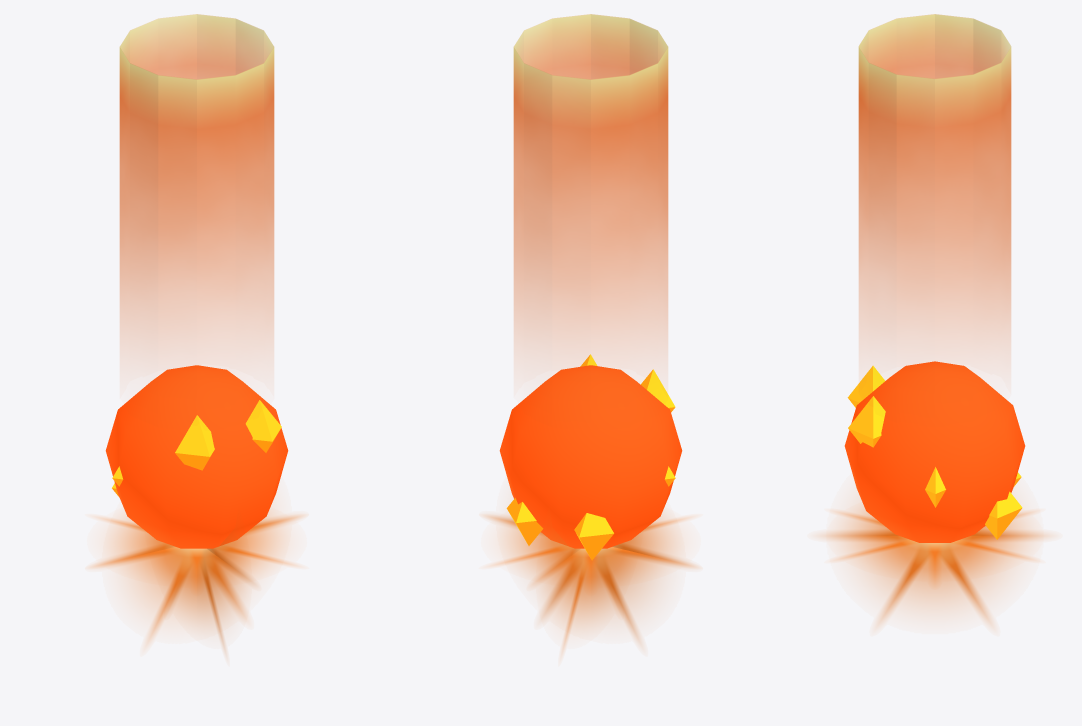
File: fx_meteor.glb
3 renders of one model, left to right at view 1: azimuth 30°, elevation 25°; view 2: azimuth 150°, elevation 25°; view 3: azimuth 270°, elevation 25°, orthographic.
Parts seen in each view (by area): view 1: fx_met_trail, fx_met_rock, fx_met_glow, fx_met_lava; view 2: fx_met_trail, fx_met_rock, fx_met_glow, fx_met_lava; view 3: fx_met_trail, fx_met_rock, fx_met_glow, fx_met_lava.
Boxes of the visible parts, x1,y1,x2,y2 form: fx_met_trail: [119, 14, 274, 357]; fx_met_rock: [105, 365, 288, 548]; fx_met_glow: [90, 508, 303, 652]; fx_met_lava: [112, 400, 281, 497]; fx_met_trail: [513, 14, 668, 359]; fx_met_rock: [499, 365, 682, 548]; fx_met_glow: [484, 514, 697, 652]; fx_met_lava: [506, 354, 675, 560]; fx_met_trail: [858, 14, 1011, 352]; fx_met_rock: [844, 361, 1025, 542]; fx_met_glow: [821, 502, 1048, 624]; fx_met_lava: [847, 365, 1022, 539].
Bounding box in the file's own units: 2.6 × 6.6 × 2.6.
4 materials, 2 textured.
